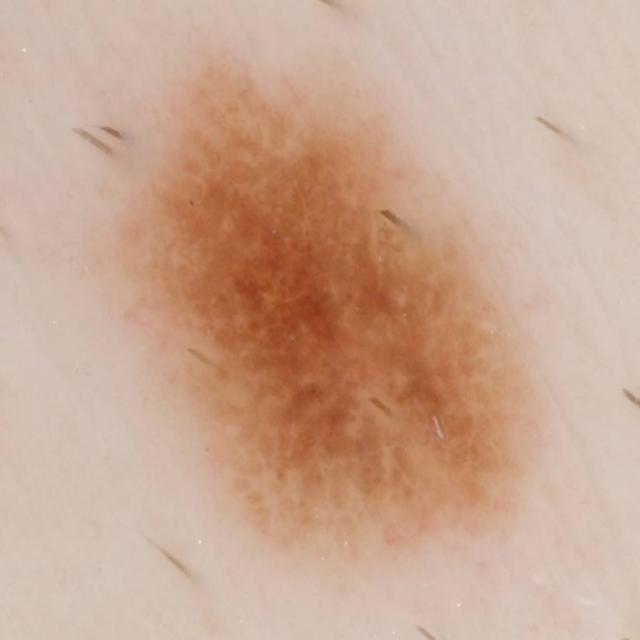Benign: (112, 50, 554, 582)
